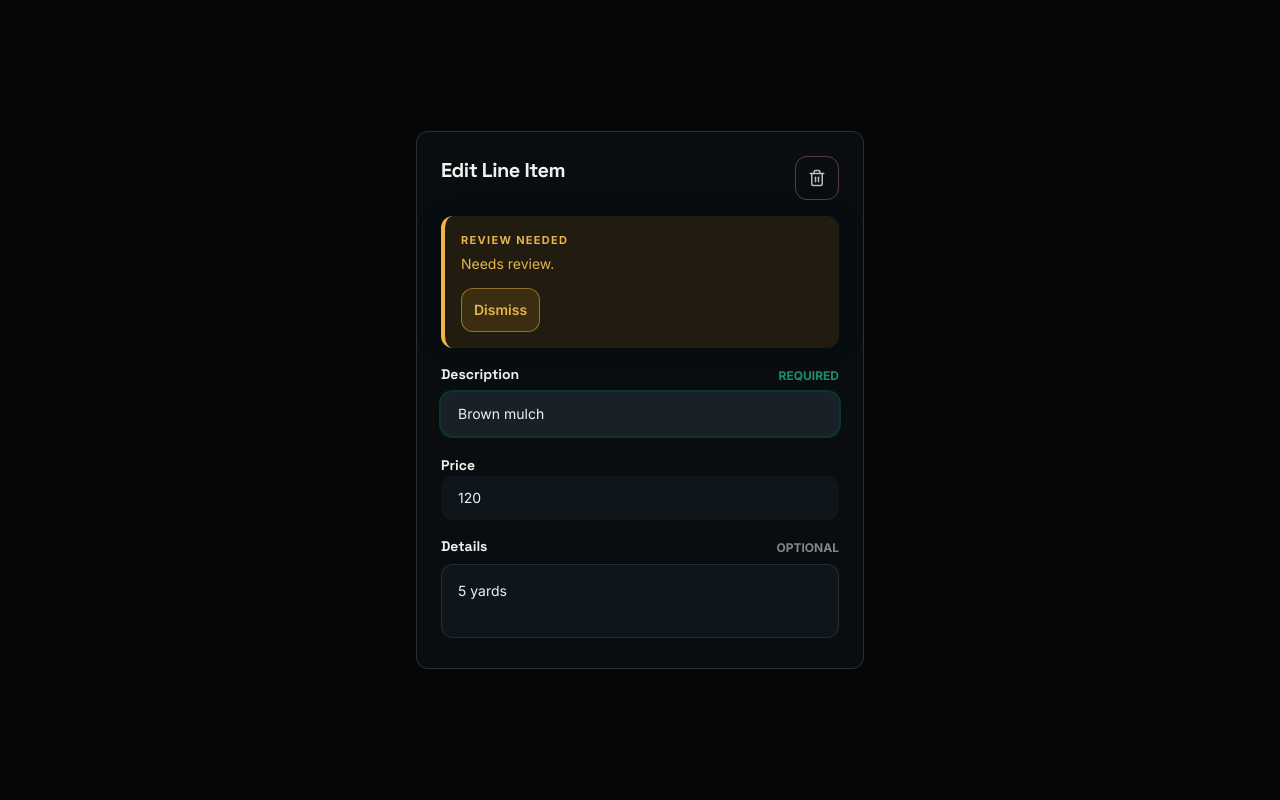
Test: LineItemEditSheet › blocks dismiss with a validation error when price is invalid
Replace the text in the field labelled "Price" with "12x": (640, 498) [458,488,822,508]
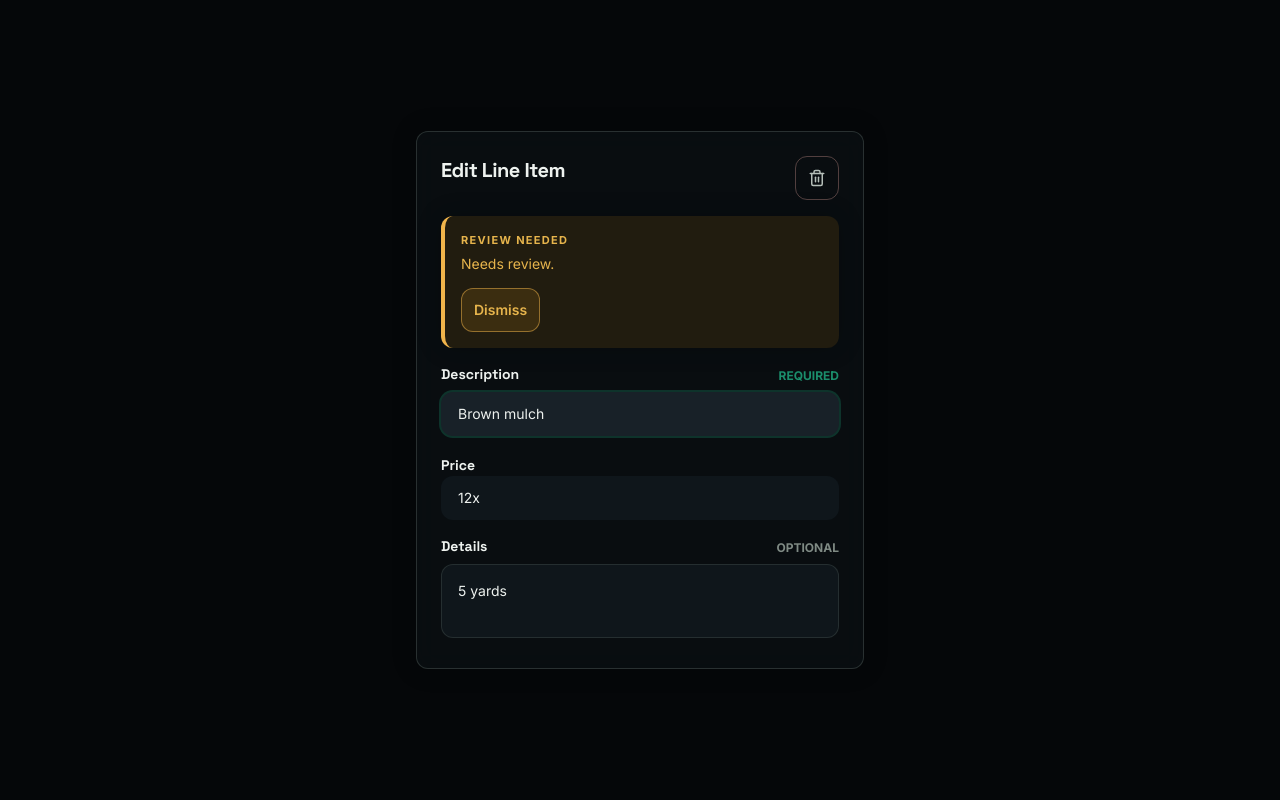
Click the element with test id "line-item-edit-sheet-overlay": (77, 400) [0,0,1279,799]
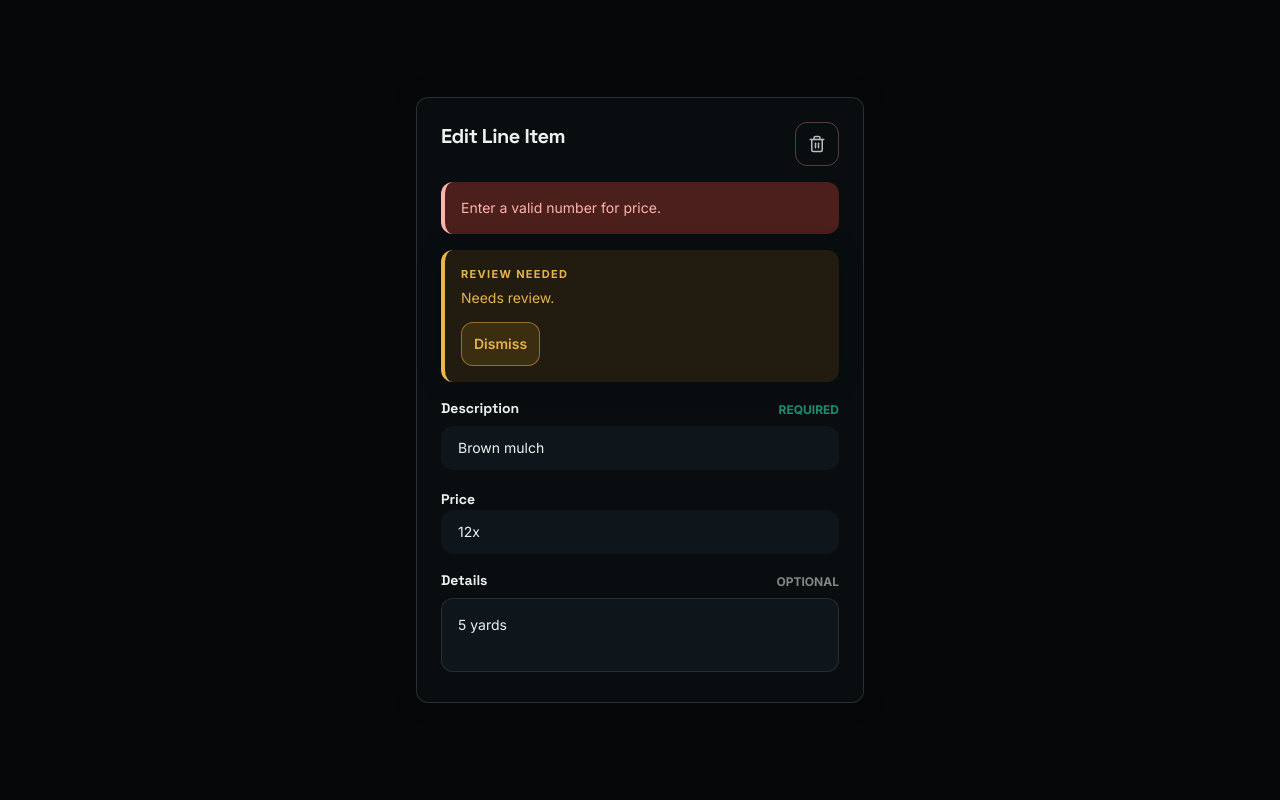
Check: the message reads "Enter a valid number for price.", box [461,199,661,216]
